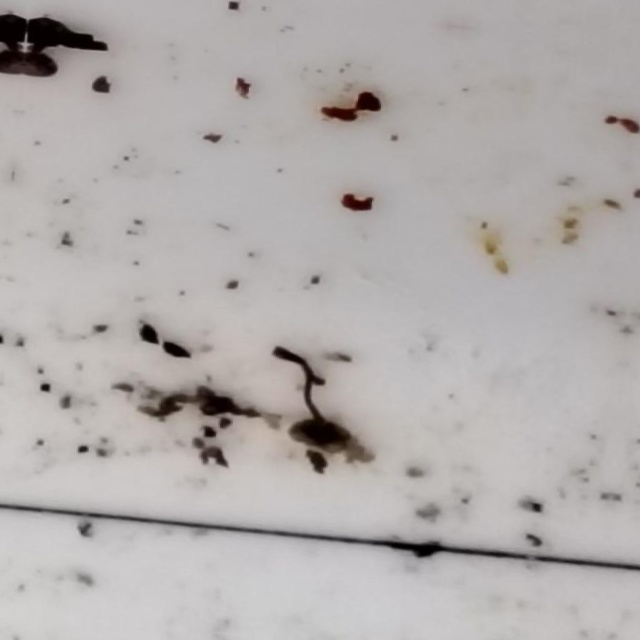varroa: (283, 413, 351, 451), (22, 49, 62, 80)
